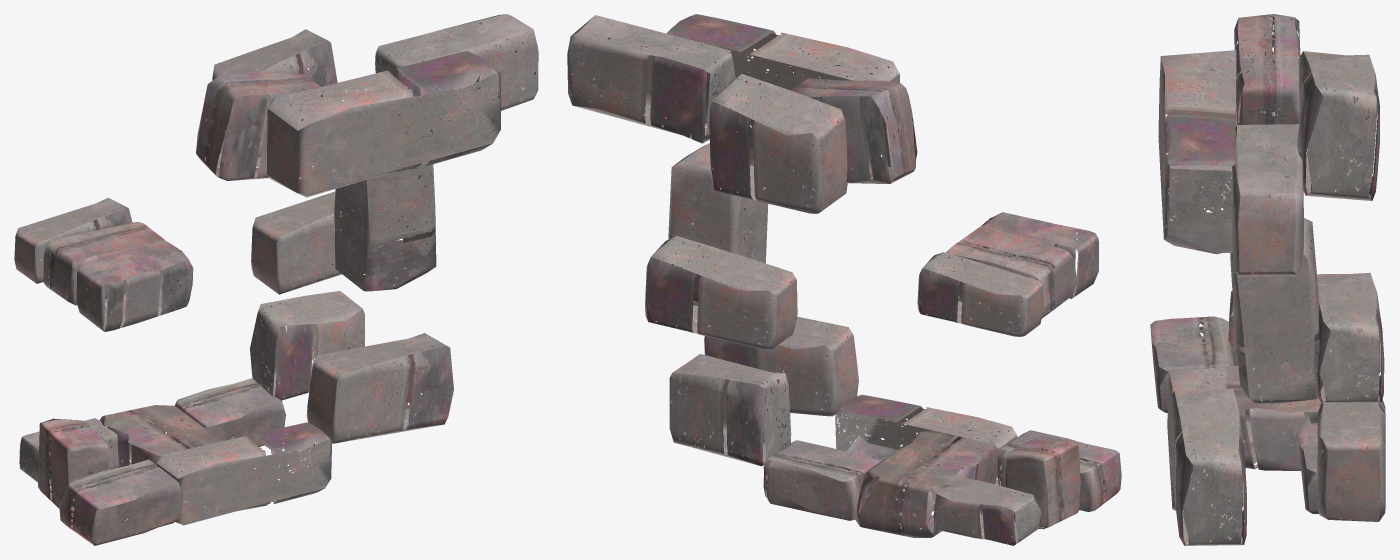
The picture shows the model from 3 angles, left to right: view 1: azimuth 30°, elevation 25°; view 2: azimuth 150°, elevation 25°; view 3: azimuth 270°, elevation 25°; orthographic projection. The views are drawn at different scales.
Visible parts, largest first — view 1: SM_Castle_Gate_01v1_LOD0; view 2: SM_Castle_Gate_01v1_LOD0; view 3: SM_Castle_Gate_01v1_LOD0.
Part boxes in pixels (x1,y1,x2,y2): SM_Castle_Gate_01v1_LOD0: (14,14,538,545); SM_Castle_Gate_01v1_LOD0: (567,14,1121,545); SM_Castle_Gate_01v1_LOD0: (1150,14,1385,545).
Bounding box in the file's own units: 2.65 × 2.07 × 0.9413.
